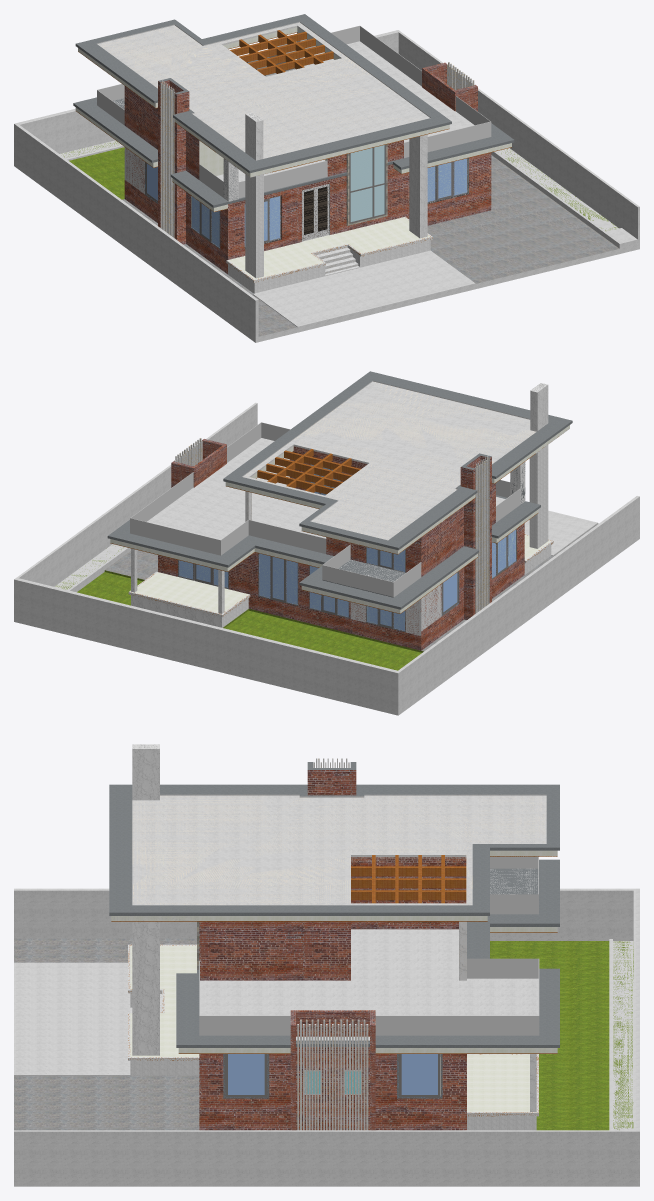
File: project x.glb
3 views of the same model, one above another, from view 1: azimuth 30°, elevation 25°; view 2: azimuth 150°, elevation 25°; view 3: azimuth 270°, elevation 25° (orthographic). The views are drawn at different scales.
Parts seen in each view (by area): view 1: group_61.004, group_77, group_77.004, group_77.001, group_61.001, group_77.002, group_76.004, group_65.001, group_55, group_62.010, group_88, instance_113 (+23 smaller); view 2: group_77.001, group_61.004, group_77, group_61.001, group_55.025, group_77.005, group_55, group_65.010, group_65.001, group_63.001, instance_113, group_36.003 (+21 smaller); view 3: group_77.001, group_61.004, group_55.025, group_77.004, group_61.001, group_77.002, group_77.005, group_62.010, group_58.007, group_55, group_65.001, group_77.006 (+30 smaller).
Part boxes in pixels (bbox=[...]): group_61.004: bbox=[97, 22, 430, 158]; group_77: bbox=[14, 124, 639, 342]; group_77.004: bbox=[122, 155, 619, 336]; group_77.001: bbox=[14, 30, 639, 300]; group_61.001: bbox=[75, 14, 451, 173]; group_77.002: bbox=[253, 250, 474, 326]; group_76.004: bbox=[193, 175, 385, 259]; group_65.001: bbox=[228, 217, 429, 279]; group_55: bbox=[73, 57, 513, 207]; group_62.010: bbox=[385, 152, 491, 221]; group_88: bbox=[350, 145, 384, 221]; instance_113: bbox=[230, 30, 333, 75]; group_77.001: bbox=[14, 402, 639, 715]; group_61.004: bbox=[242, 380, 536, 540]; group_77: bbox=[398, 496, 639, 715]; group_61.001: bbox=[223, 371, 572, 550]; group_55.025: bbox=[147, 438, 326, 539]; group_77.005: bbox=[77, 570, 423, 670]; group_55: bbox=[108, 495, 540, 607]; group_65.010: bbox=[248, 561, 524, 650]; group_65.001: bbox=[135, 535, 550, 612]; group_63.001: bbox=[406, 483, 495, 576]; instance_113: bbox=[257, 449, 360, 494]; group_36.003: bbox=[529, 445, 548, 548]; group_77.001: bbox=[14, 888, 639, 1186]; group_61.004: bbox=[132, 794, 546, 905]; group_55.025: bbox=[200, 929, 538, 1040]; group_77.004: bbox=[14, 938, 199, 1130]; group_61.001: bbox=[109, 784, 559, 915]; group_77.002: bbox=[14, 962, 130, 1075]; group_77.005: bbox=[490, 941, 609, 1130]; group_62.010: bbox=[199, 1047, 466, 1120]; group_58.007: bbox=[199, 921, 350, 980]; group_55: bbox=[176, 859, 559, 1044]; group_65.001: bbox=[130, 945, 529, 1111]; group_77.006: bbox=[613, 941, 633, 1130].
Bounding box in the file's own units: 24.93 × 10.93 × 27.14.
Materials: 37 (30 with a texture image).
